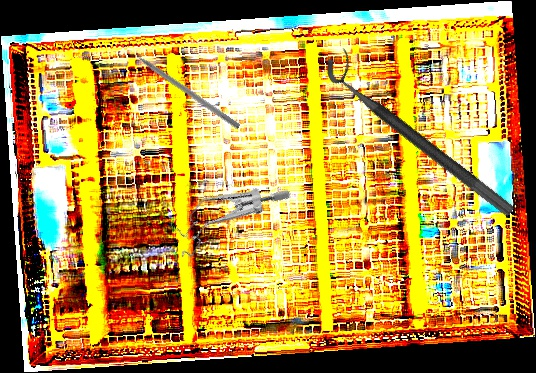Fixation Ring: (318, 44, 528, 219)
Pusher: (121, 42, 242, 130)
Speculum: (163, 149, 294, 288)
